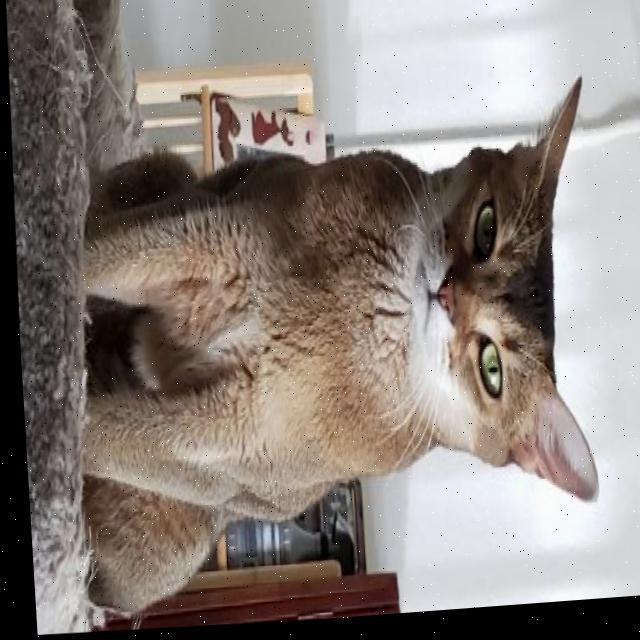Abyssinian: (34, 69, 608, 638)
